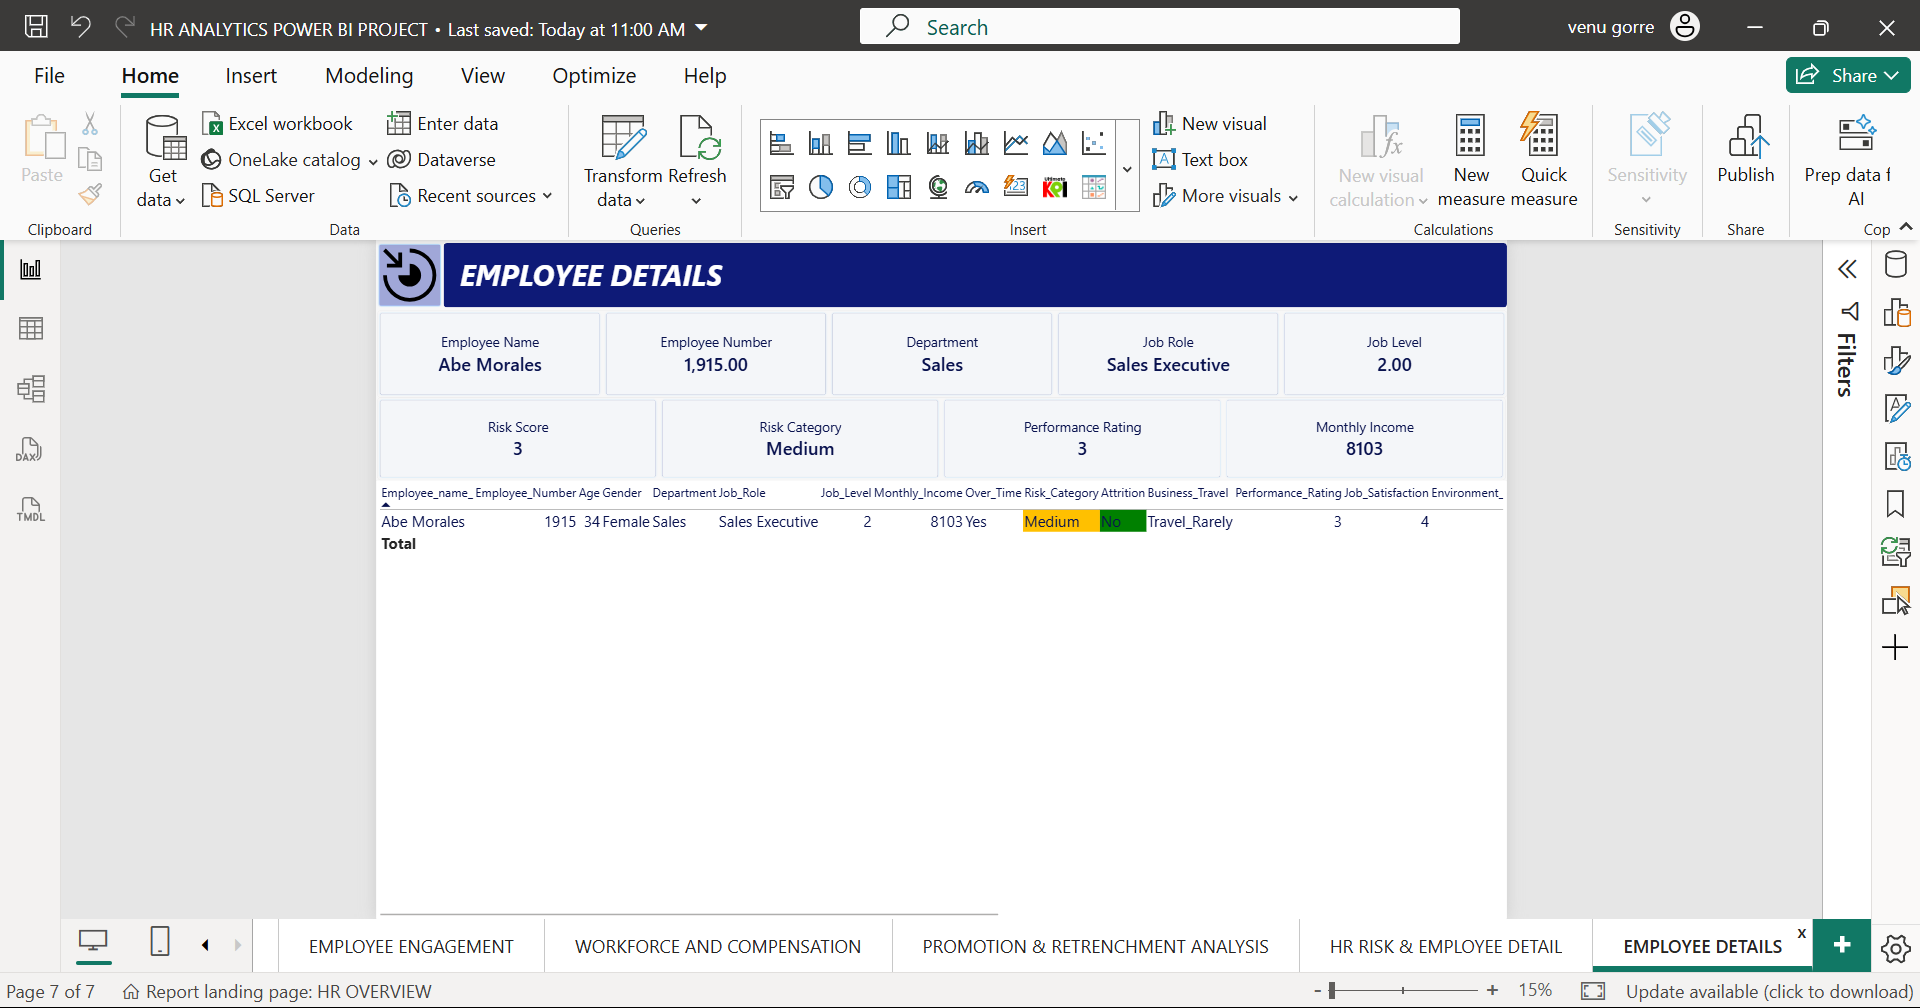

The page's visual inventory and layout, read from the dashboard file:
{"tool":"powerbi","page":{"name":"EMPLOYEE DETAILS","canvas":[5000,3000],"ordinal":6},"visuals":[{"type":"actionButton","box":[6.6,13.3,285,285],"z":0},{"type":"tableEx","fields":{"Values":["HR-EMPLOYEES.Employee_name_","HR-EMPLOYEES.Employee_Number","HR-EMPLOYEES.Age","HR-EMPLOYEES.Gender","HR-EMPLOYEES.Department","HR-EMPLOYEES.Job_Role","HR-EMPLOYEES.Job_Level","HR-EMPLOYEES.Monthly_Income","HR-EMPLOYEES.Over_Time","HR-EMPLOYEES.Risk_Category","HR-EMPLOYEES.Attrition","HR-EMPLOYEES.Business_Travel"]},"box":[0,1060.4,4997.2,1941.9],"z":1000},{"type":"actionButton","box":[298.2,13.3,4698.9,285],"z":2000},{"type":"cardVisual","fields":{"Data":["Calculation group.Selected Employee Name","Calculation group.Selected Employee Number","Calculation group.Selected Department","Calculation group.Selected Job Role","Calculation group.Selected Job Level"]},"box":[6.6,311.5,4990.5,384.4],"z":3000},{"type":"cardVisual","fields":{"Data":["Calculation group.Selected Risk Score","Calculation group.Selected Risk Category","Calculation group.Selected Performance Rating","Calculation group.Selected Monthly Income"]},"box":[6.6,695.9,4983.9,364.5],"z":4000},{"type":"textbox","box":[371.1,66.3,2889.6,232],"z":5000}]}

Visuals, with their boxes on the page's 5000x3000 design canvas (x1, y1, x2, y2). These are canvas units, not pixel positions in the 1920x1008 screenshot, which may show the page scaled, cropped or inside an application window:
actionButton: left=7, top=13, right=292, bottom=298
tableEx - HR-EMPLOYEES.Employee_name_ x HR-EMPLOYEES.Employee_Number: left=0, top=1060, right=4997, bottom=3002
actionButton: left=298, top=13, right=4997, bottom=298
cardVisual - Calculation group.Selected Employee Name x Calculation group.Selected Employee Number: left=7, top=312, right=4997, bottom=696
cardVisual - Calculation group.Selected Risk Score x Calculation group.Selected Risk Category: left=7, top=696, right=4990, bottom=1060
textbox: left=371, top=66, right=3261, bottom=298
